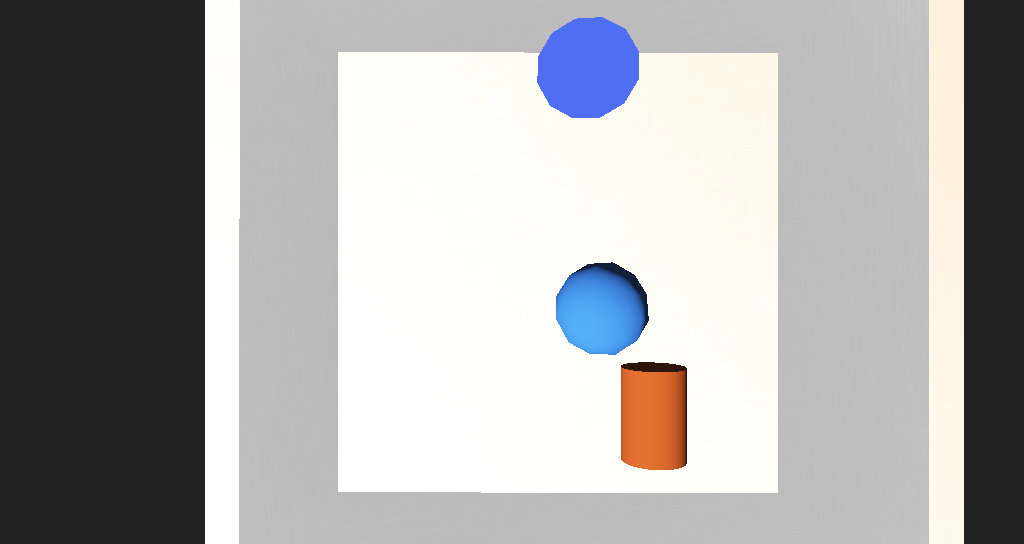cone: (549, 313, 596, 365)
cylinder: (485, 150, 566, 212)
sphere: (499, 265, 566, 308)
